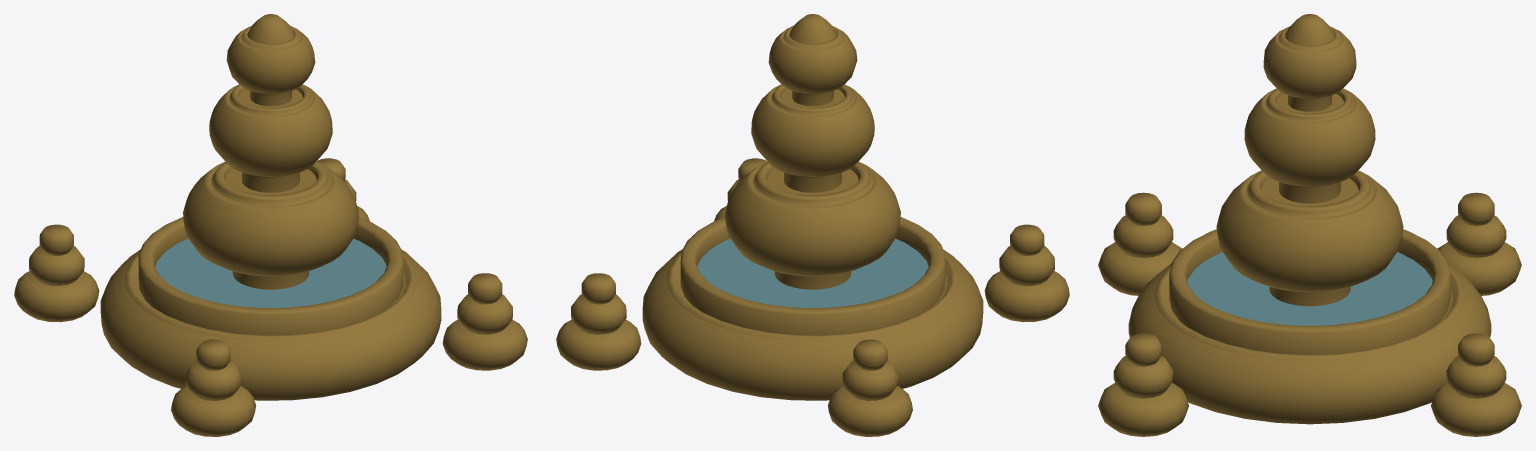
The model's file is DI_011_fountain.glb.
3 views of the same model, side by side, from view 1: azimuth 30°, elevation 25°; view 2: azimuth 150°, elevation 25°; view 3: azimuth 270°, elevation 25° (orthographic). The views are drawn at different scales.
Visible parts, largest first — view 1: Fountain; view 2: Fountain; view 3: Fountain.
Boxes of the visible parts, box(x1,y1,x2,y2) form: Fountain: box(14, 14, 527, 436); Fountain: box(556, 14, 1069, 436); Fountain: box(1098, 14, 1521, 436).
Size of the model in its own units: 1.95 by 1.7 by 1.95.
